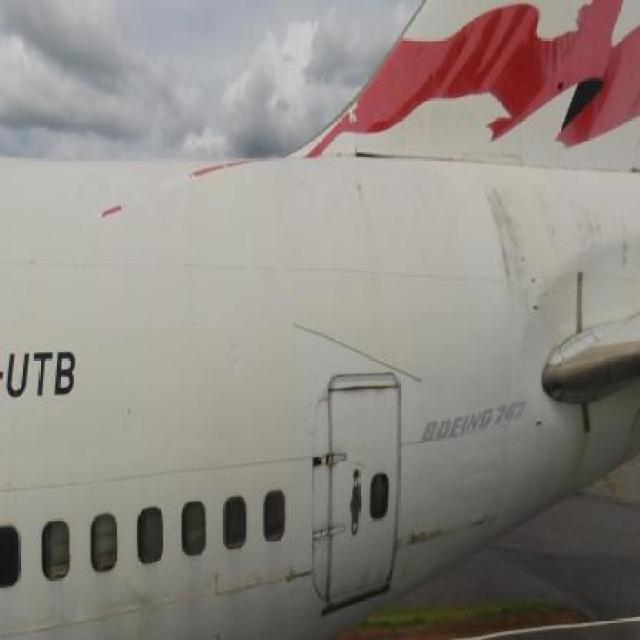Rust: (567, 179, 635, 292), (481, 173, 533, 310), (401, 519, 502, 546), (344, 555, 394, 600), (572, 405, 596, 497), (329, 379, 402, 403)
Scartch: (114, 571, 168, 640), (252, 556, 316, 592)
